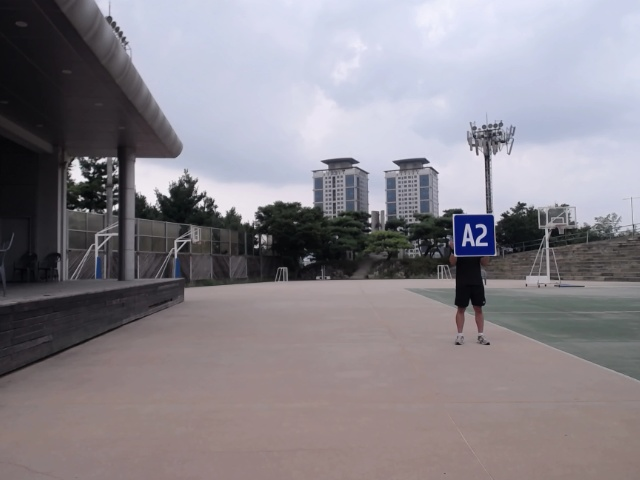delivery_a2: (453, 214, 496, 255)
